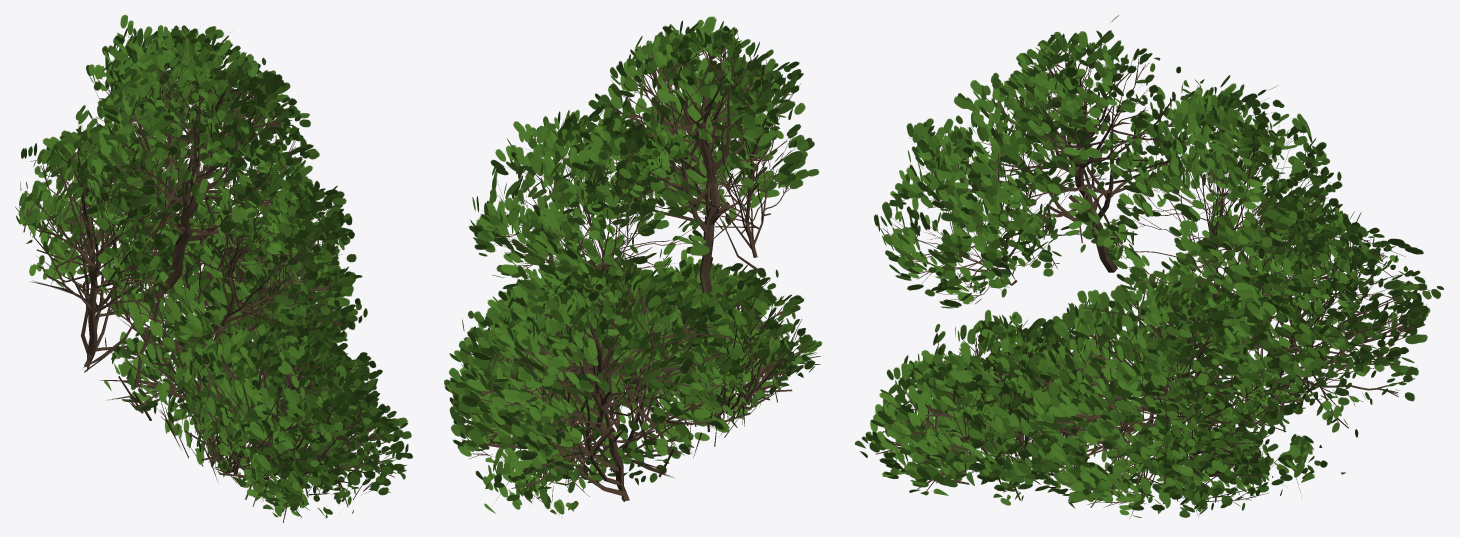
The picture shows the model from 3 angles, left to right: view 1: azimuth 30°, elevation 25°; view 2: azimuth 150°, elevation 25°; view 3: azimuth 270°, elevation 25°; orthographic projection.
Visible parts, largest first — view 1: oak 01.001_trunk_Mat.001_0.482; view 2: oak 01.001_trunk_Mat.001_0.482; view 3: oak 01.001_trunk_Mat.001_0.482.
Boxes of the visible parts, box(x1,y1,x2,y2) form: oak 01.001_trunk_Mat.001_0.482: box(15, 14, 412, 522); oak 01.001_trunk_Mat.001_0.482: box(444, 16, 821, 515); oak 01.001_trunk_Mat.001_0.482: box(855, 15, 1443, 517).
Bounding box in the file's own units: 1.98 × 3.48 × 4.28.
Materials: 2 (1 with a texture image).
